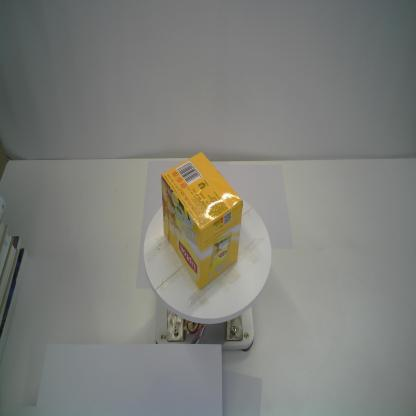Instant Drink: (160, 151, 243, 291)
